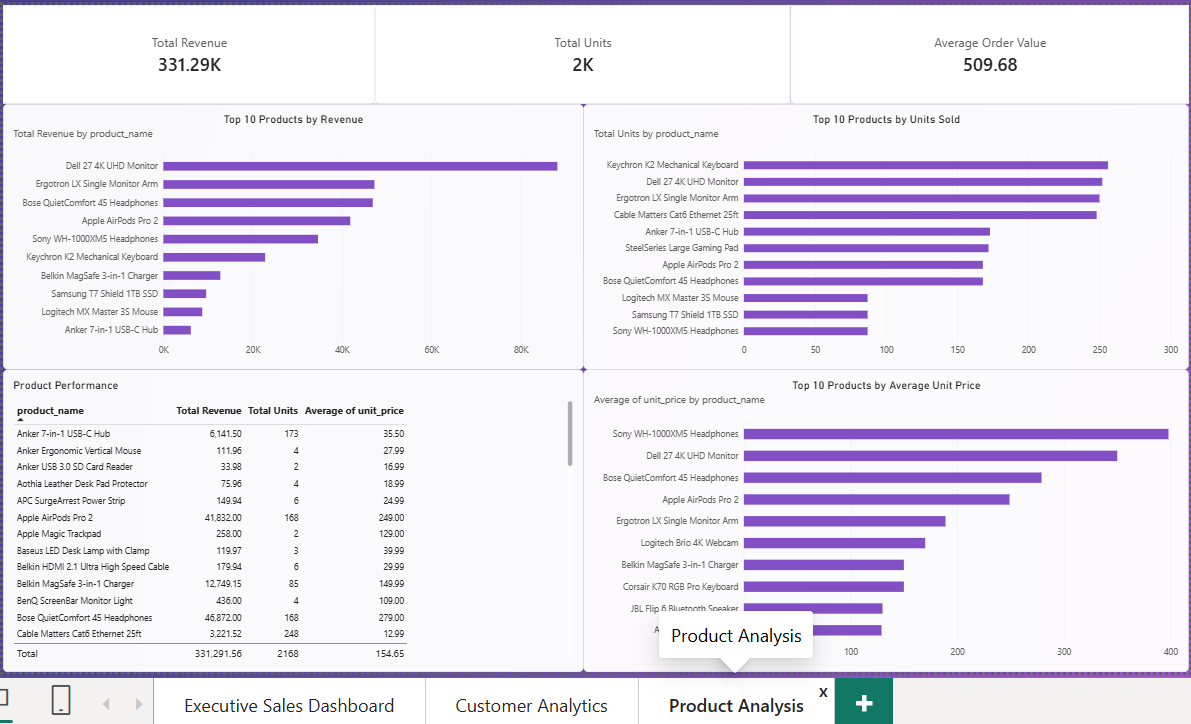

Layout of this report page (visuals, bound fields, positions):
{"tool":"powerbi","page":{"name":"Product Analysis","canvas":[1920,1080],"ordinal":2},"visuals":[{"type":"cardVisual","fields":{"Data":["storedb order_items.Total Revenue"]},"box":[0,0,602.5,160],"z":0},{"type":"cardVisual","fields":{"Data":["storedb order_items.Total Units"]},"box":[602.5,0,672.5,160],"z":1000},{"type":"cardVisual","fields":{"Data":["storedb order_items.Average Order Value"]},"box":[1275,0,645,160],"z":2000},{"type":"clusteredBarChart","title":"Top 10 Products by Revenue","fields":{"Category":["storedb order_items.product_name"],"Y":["storedb order_items.Total Revenue"]},"box":[0,160,940,430],"z":3000},{"type":"clusteredBarChart","title":"Top 10 Products by Units Sold","fields":{"Category":["storedb order_items.product_name"],"Y":["storedb order_items.Total Units"]},"box":[940,160,980,430],"z":4000},{"type":"tableEx","title":"Product Performance","fields":{"Values":["storedb order_items.product_name","storedb order_items.Total Revenue","storedb order_items.Total Units","Avg(storedb order_items.unit_price)"]},"box":[0,590,940,490],"z":5000},{"type":"barChart","title":"Top 10 Products by Average Unit Price","fields":{"Category":["storedb order_items.product_name"],"Y":["Avg(storedb order_items.unit_price)"]},"box":[940,590,980,490],"z":5001}]}

Visuals, with their boxes on the page's 1920x1080 design canvas (x1, y1, x2, y2). These are canvas units, not pixel positions in the 1191x724 screenshot, which may show the page scaled, cropped or inside an application window:
cardVisual - storedb order_items.Total Revenue: (0,0,602,160)
cardVisual - storedb order_items.Total Units: (602,0,1275,160)
cardVisual - storedb order_items.Average Order Value: (1275,0,1920,160)
"Top 10 Products by Revenue" clusteredBarChart: (0,160,940,590)
"Top 10 Products by Units Sold" clusteredBarChart: (940,160,1920,590)
"Product Performance" tableEx: (0,590,940,1080)
"Top 10 Products by Average Unit Price" barChart: (940,590,1920,1080)
